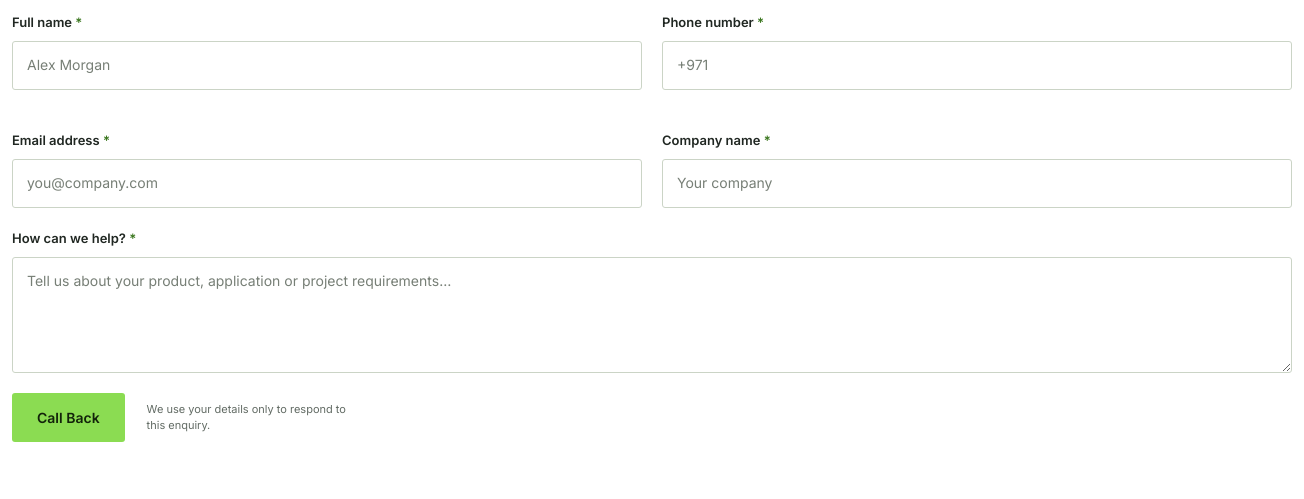
Test: Customer enquiry flow › does not clear the form or claim success if the server response has no saved reference
The image size is (1304, 499).
Type "Customer" into the field labelled "Full name *". click: [327, 66]
box: [12,41,642,90]
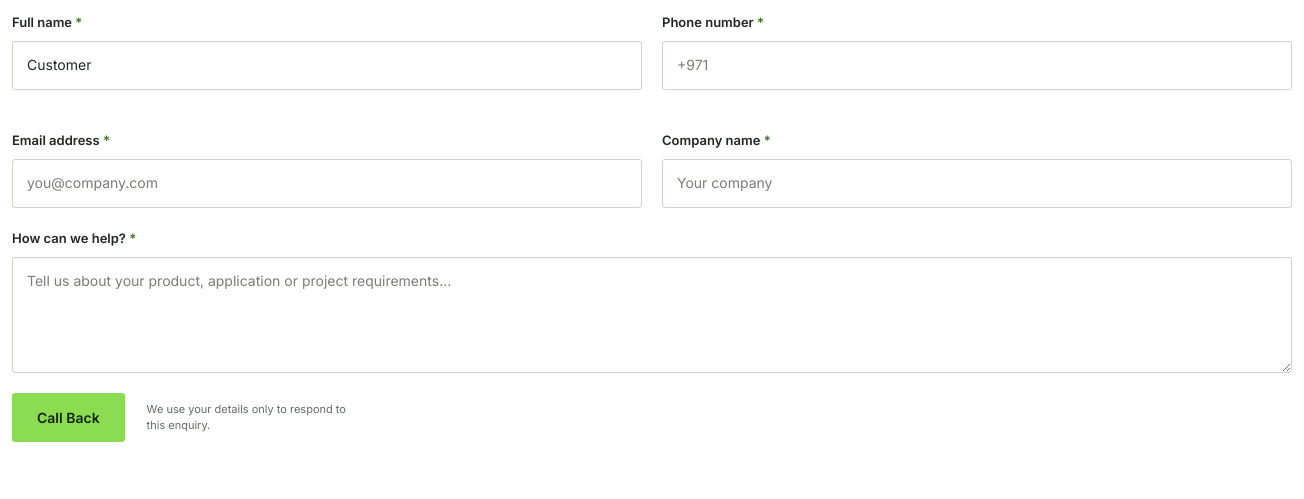
Type "123456789" into the field labelled "Phone number *". click: [977, 66]
box: [662,41,1292,90]
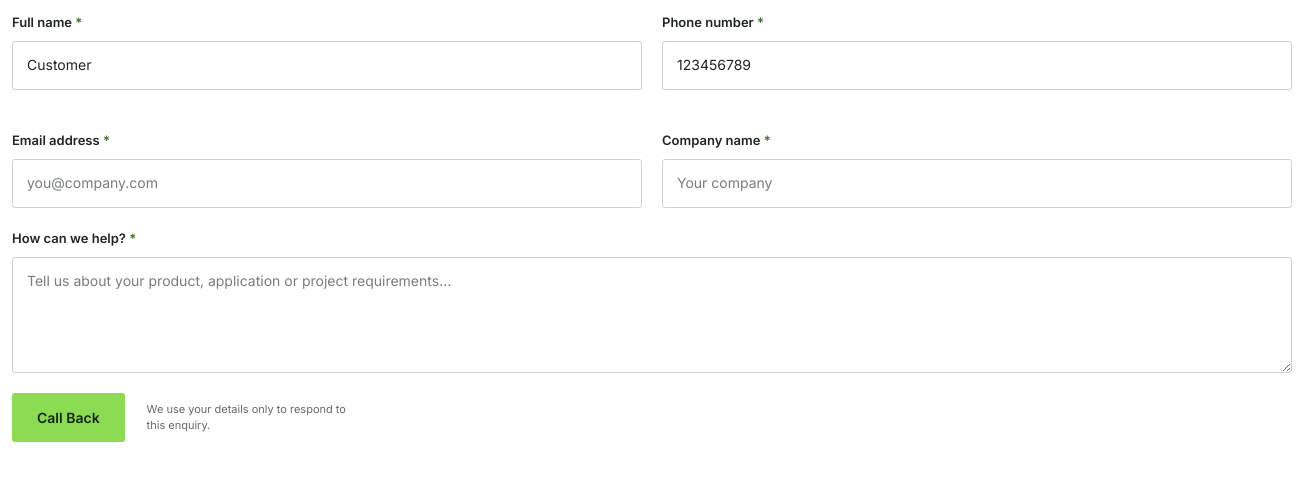
Type "a@example.com" into the field labelled "Email address *". click: [327, 184]
box: [12,159,642,208]
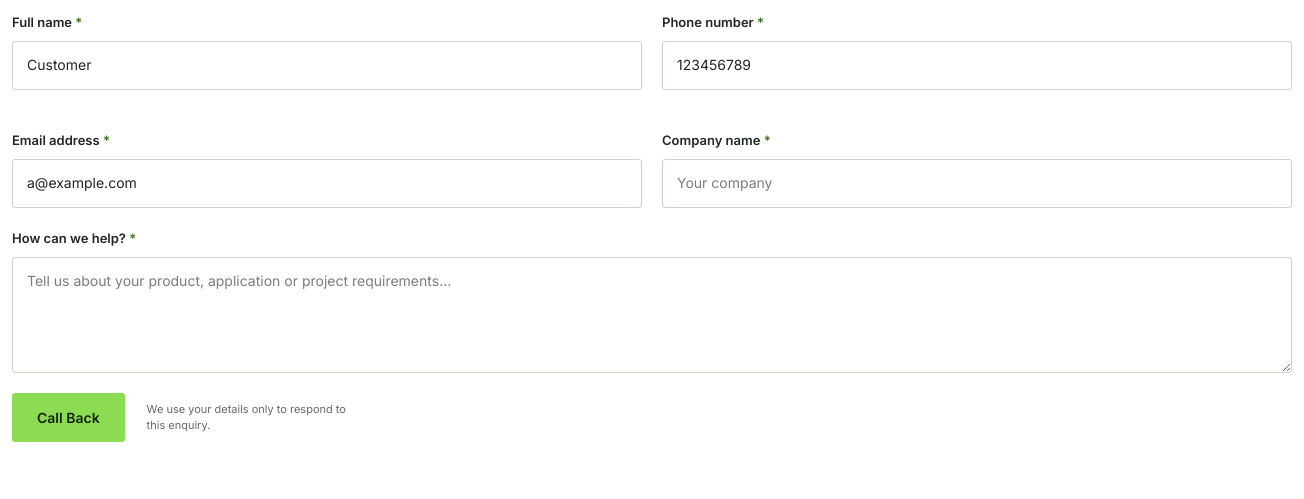
Type "Company" into the field labelled "Company name *". click: [977, 184]
box: [662,159,1292,208]
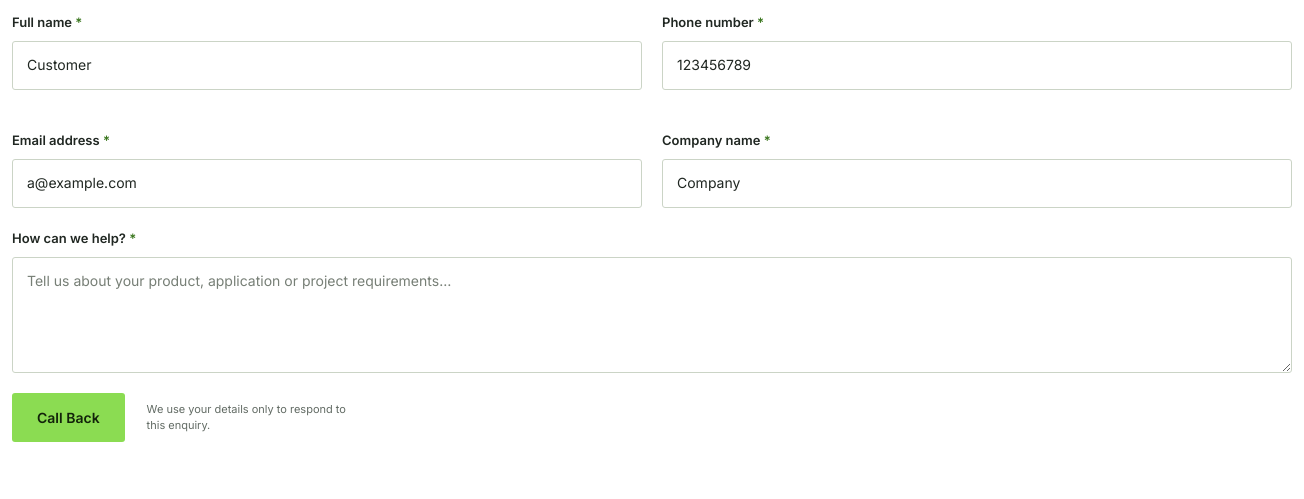
Replace the text in the text box labelled "How can we help? *" with "Please quote this motor.". click: [652, 315]
box: [12,257,1292,373]
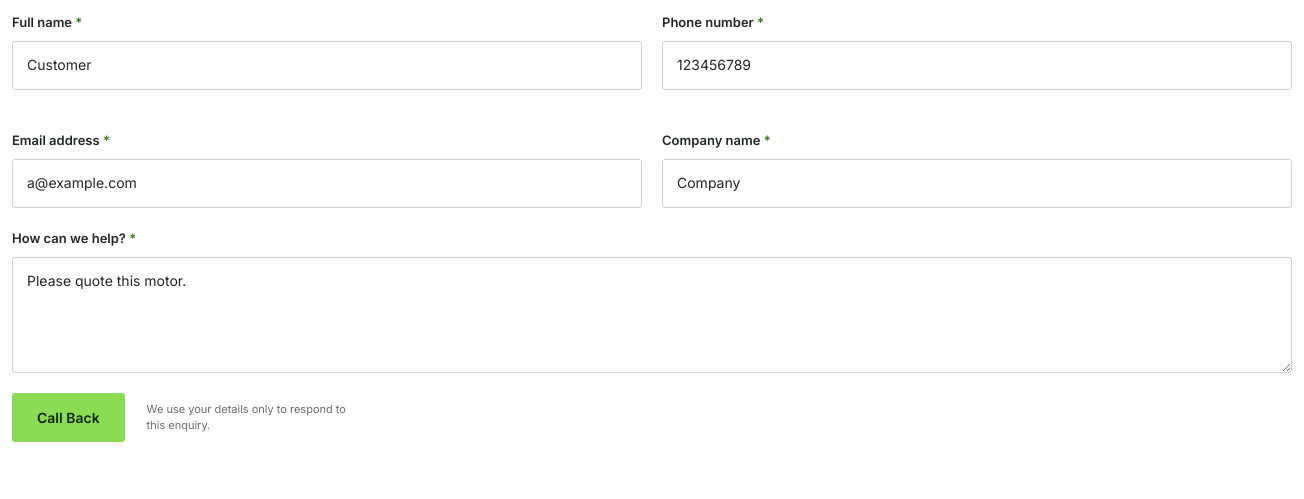
Click the button "Call Back". click: [68, 418]
box: [12,393,125,442]
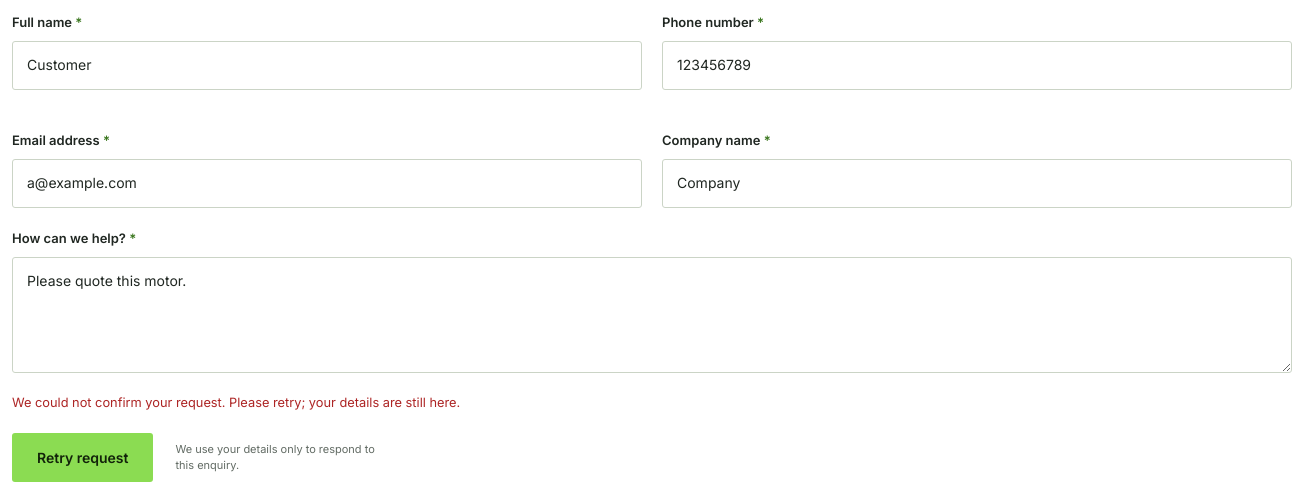
Now the message "We could not confirm your request. Please retry; your details are still here." is shown, box [12,395,460,410]
